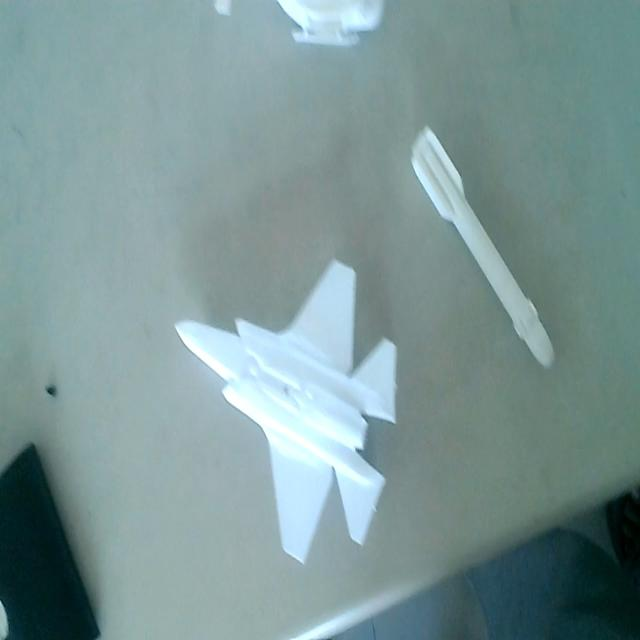Jet: (165, 253, 403, 571)
Rocket: (410, 120, 555, 373)
